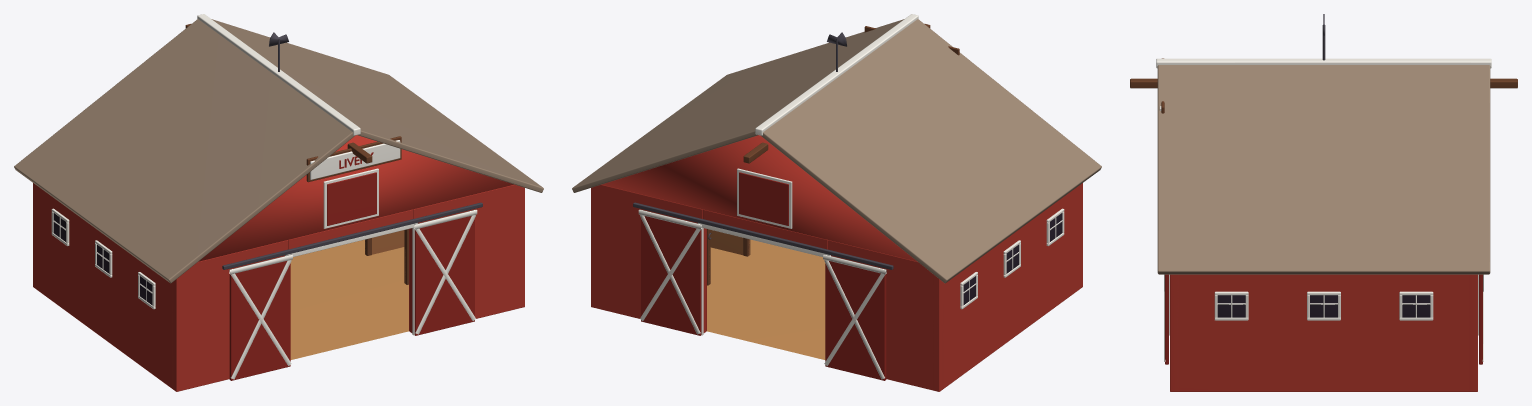
Rendered from gulch_livery.glb.
The picture shows the model from 3 angles, left to right: view 1: azimuth 30°, elevation 25°; view 2: azimuth 150°, elevation 25°; view 3: azimuth 270°, elevation 25°; orthographic projection. The views are drawn at different scales.
Parts seen in each view (by area): view 1: Livery; view 2: Livery; view 3: Livery.
Part boxes in pixels (x1,y1,x2,y2): Livery: (14, 14, 543, 391); Livery: (572, 14, 1101, 391); Livery: (1130, 14, 1517, 391).
Bounding box in the file's own units: 15.06 × 10.23 × 12.6.
